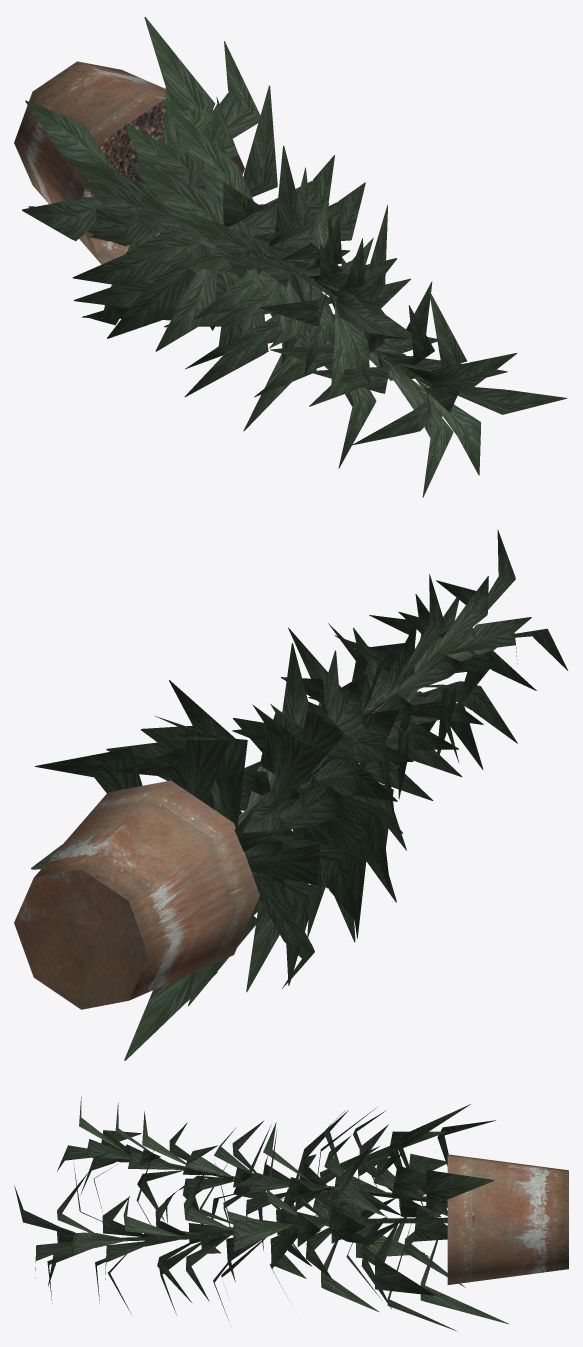
Rendered from nt_2020_greenhouse_plant_02_LOD2.obj.
3 views of the same model, one above another, from view 1: azimuth 30°, elevation 25°; view 2: azimuth 150°, elevation 25°; view 3: azimuth 270°, elevation 25° (orthographic). The views are drawn at different scales.
Visible parts, largest first — view 1: mat_cub_pottedplant, mtl_p_glo_flower_pot_large, mtl_p_glo_flower_pot_dirt; view 2: mat_cub_pottedplant, mtl_p_glo_flower_pot_large; view 3: mat_cub_pottedplant, mtl_p_glo_flower_pot_large.
Boxes of the visible parts, left/top/right/bottom form: mat_cub_pottedplant: left=22, top=17, right=566, bottom=497; mtl_p_glo_flower_pot_large: left=14, top=61, right=244, bottom=264; mtl_p_glo_flower_pot_dirt: left=82, top=101, right=165, bottom=244; mat_cub_pottedplant: left=31, top=530, right=568, bottom=1060; mtl_p_glo_flower_pot_large: left=14, top=780, right=259, bottom=1009; mat_cub_pottedplant: left=14, top=1096, right=508, bottom=1331; mtl_p_glo_flower_pot_large: left=447, top=1154, right=568, bottom=1284.
Bounding box in the file's own units: 69.89 × 73.22 × 166.
